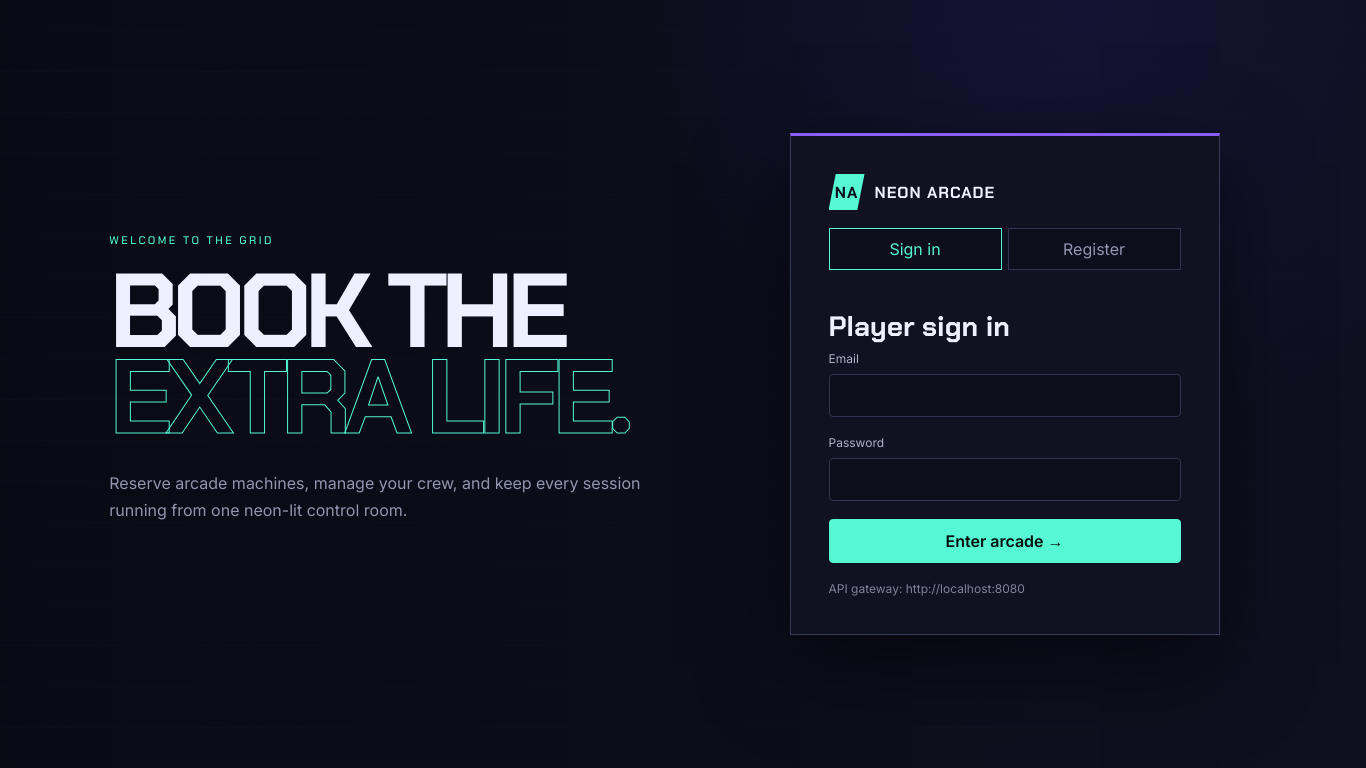
Scenario: protected routing and sessions › logs in, persists the session, and enters the protected layout
In the field labelled "Email": point(1004, 396) [828,374,1180,417], type "player@example.com"
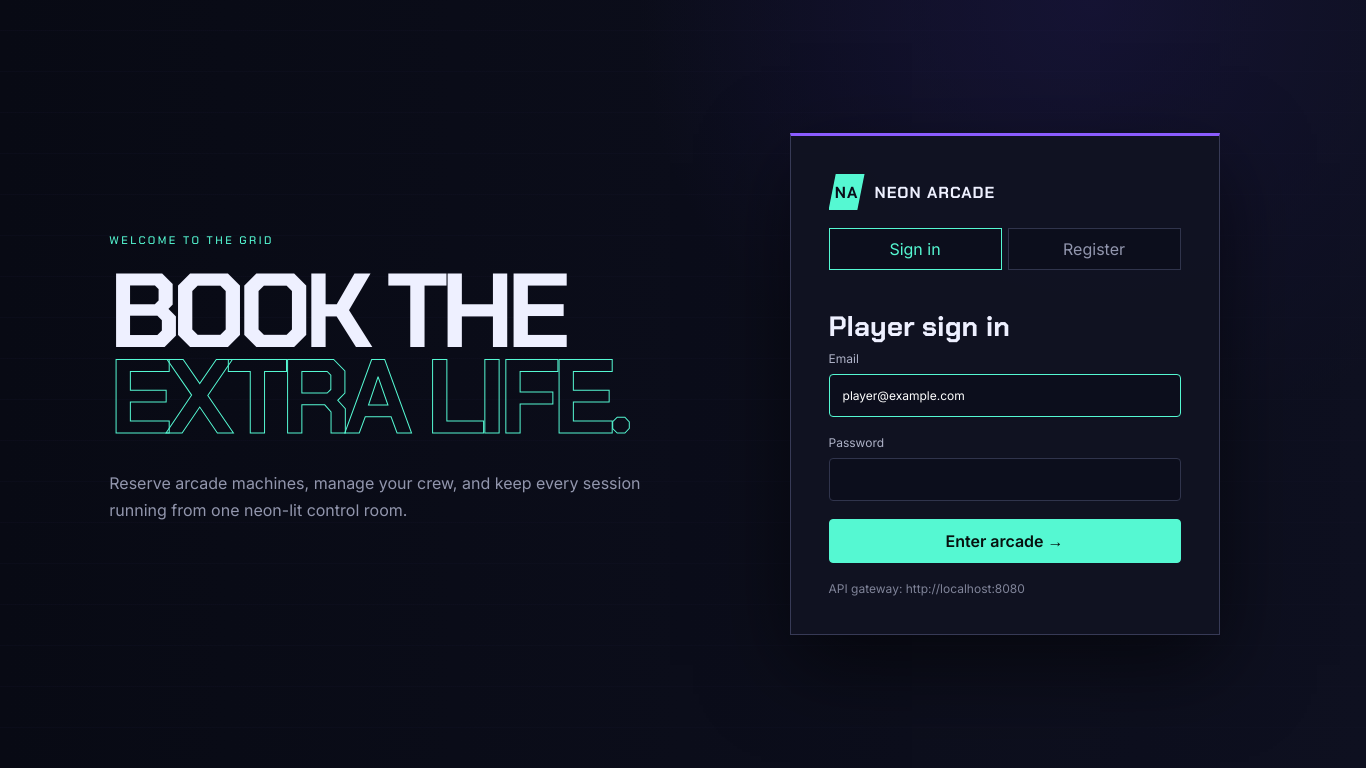
In the password field labelled "Password": point(1004, 480) [828,458,1180,501], type "password123"
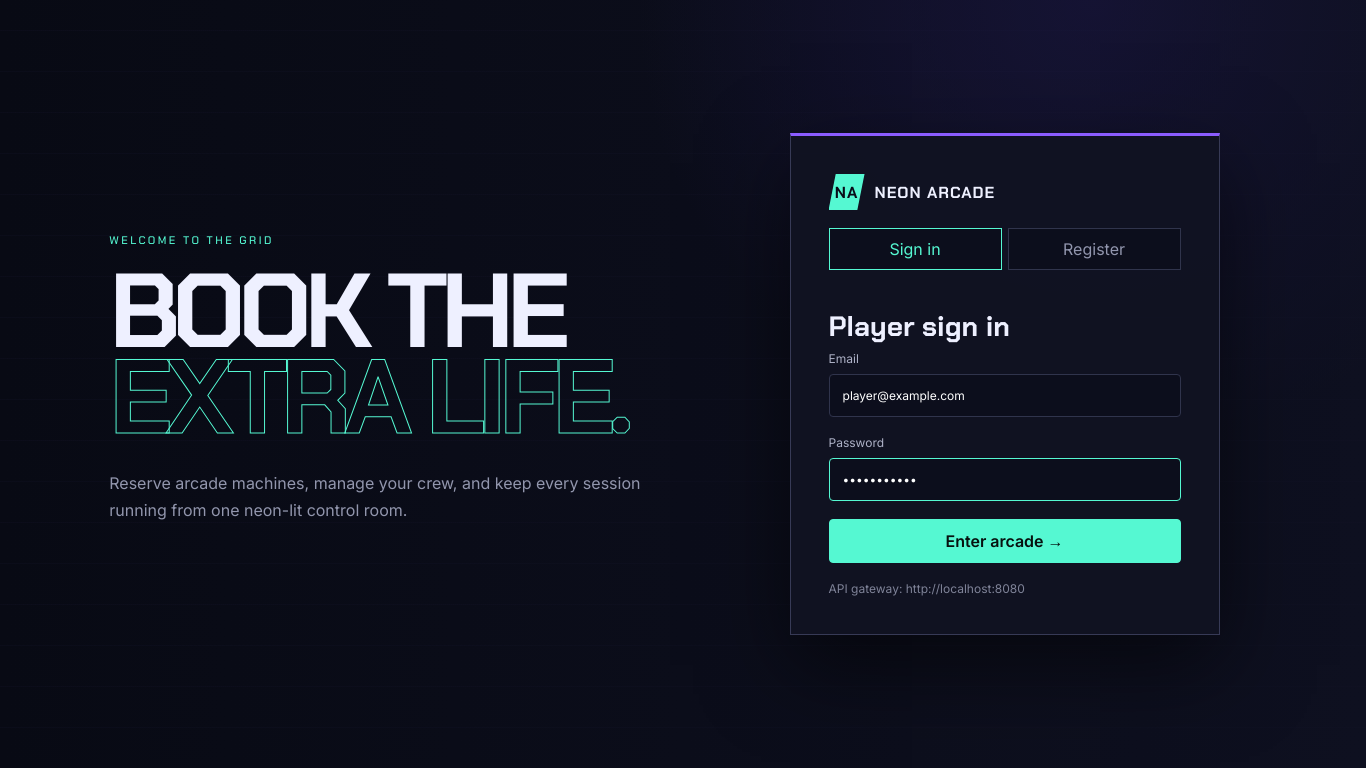
Click the button "Enter arcade →": point(1004, 541) [828,519,1180,563]
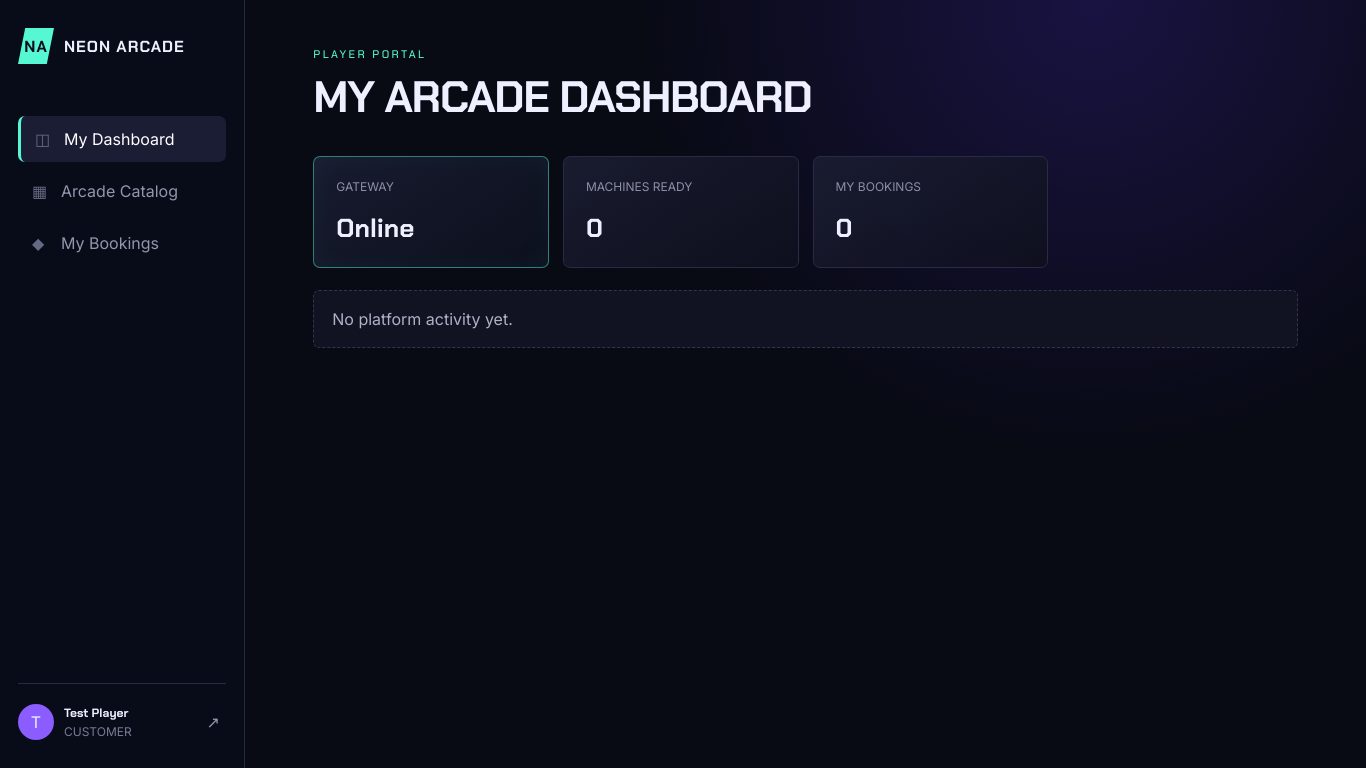
Expected: the heading "My arcade dashboard" is shown, [313,68,812,126]
